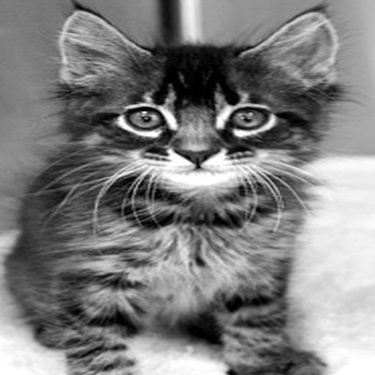cat: (27, 4, 344, 367)
